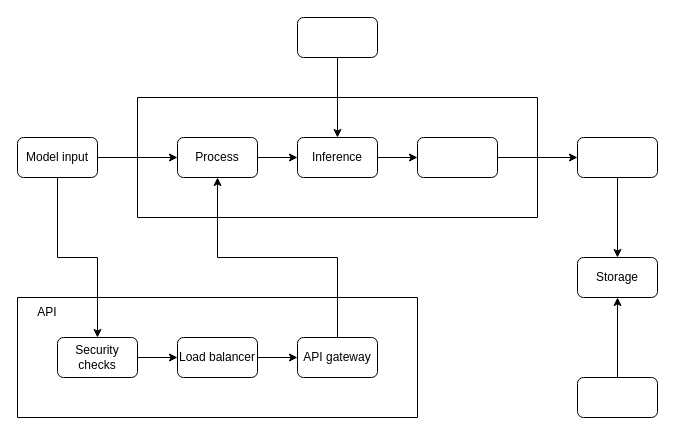
The diagram is 675 pixels wide and 435 high, and some of its shapes have lost their labels. The shapes that lost their labels are listed below. From the top down, each one's box as (x1, y1, x2, y2) in pixels, then its label:
(296, 16, 378, 58): Model registry
(416, 136, 498, 178): Filtering
(576, 136, 658, 178): Model output
(576, 376, 658, 418): Model monitoring
